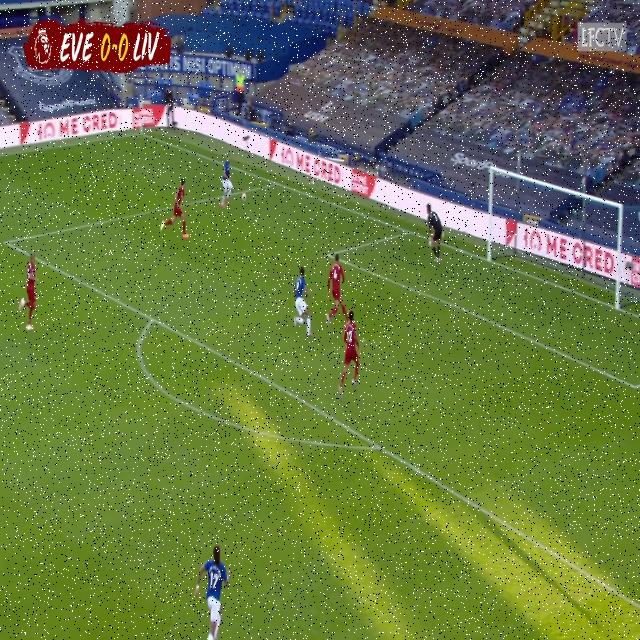Ball: (241, 190, 249, 208)
GoalKeeper: (425, 202, 445, 266)
TEAM 1: (337, 301, 364, 398), (158, 175, 192, 250), (18, 248, 43, 340), (322, 252, 349, 328)
TEAM 2: (193, 539, 234, 640), (286, 264, 318, 350), (220, 147, 234, 214)
